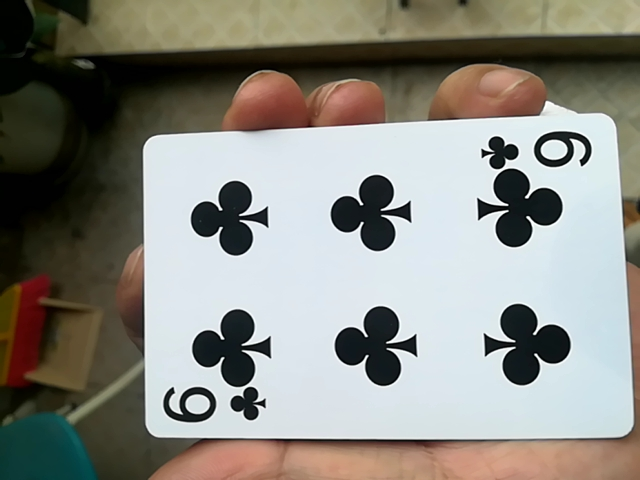mh 6: (134, 111, 626, 457)
